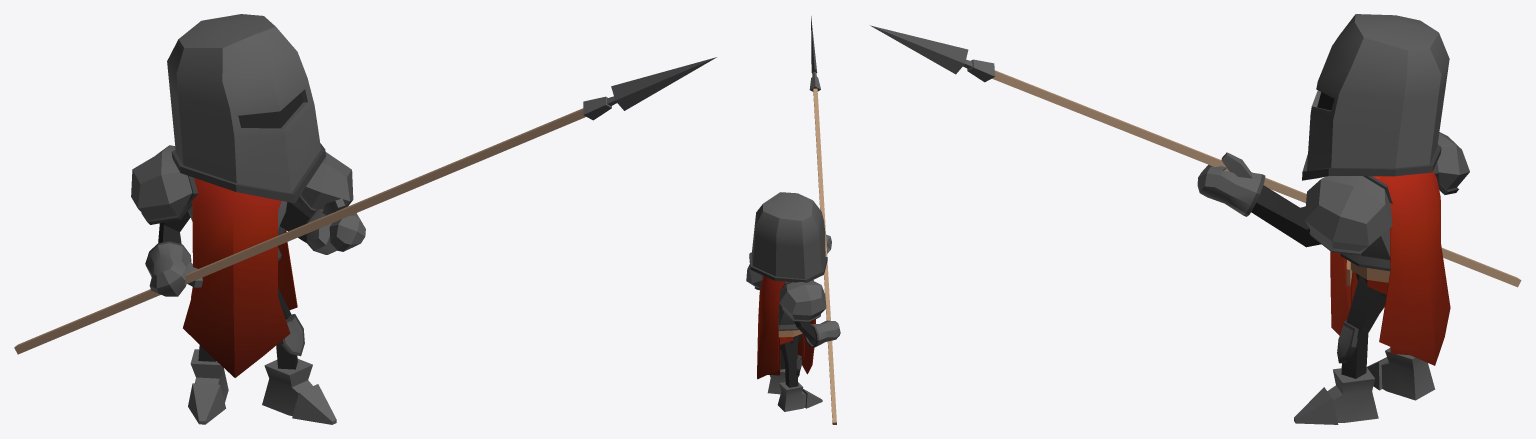
The model's file is Warrior_4.fbx.
3 views of the same model, side by side, from view 1: azimuth 30°, elevation 25°; view 2: azimuth 150°, elevation 25°; view 3: azimuth 270°, elevation 25° (orthographic). The views are drawn at different scales.
Parts seen in each view (by area): view 1: Warrior_4; view 2: Warrior_4; view 3: Warrior_4.
Part boxes in pixels (x1,y1,x2,y2): Warrior_4: (14, 14, 716, 424); Warrior_4: (746, 16, 840, 424); Warrior_4: (870, 14, 1521, 424).
Bounding box in the file's own units: 127 × 156 × 193.
